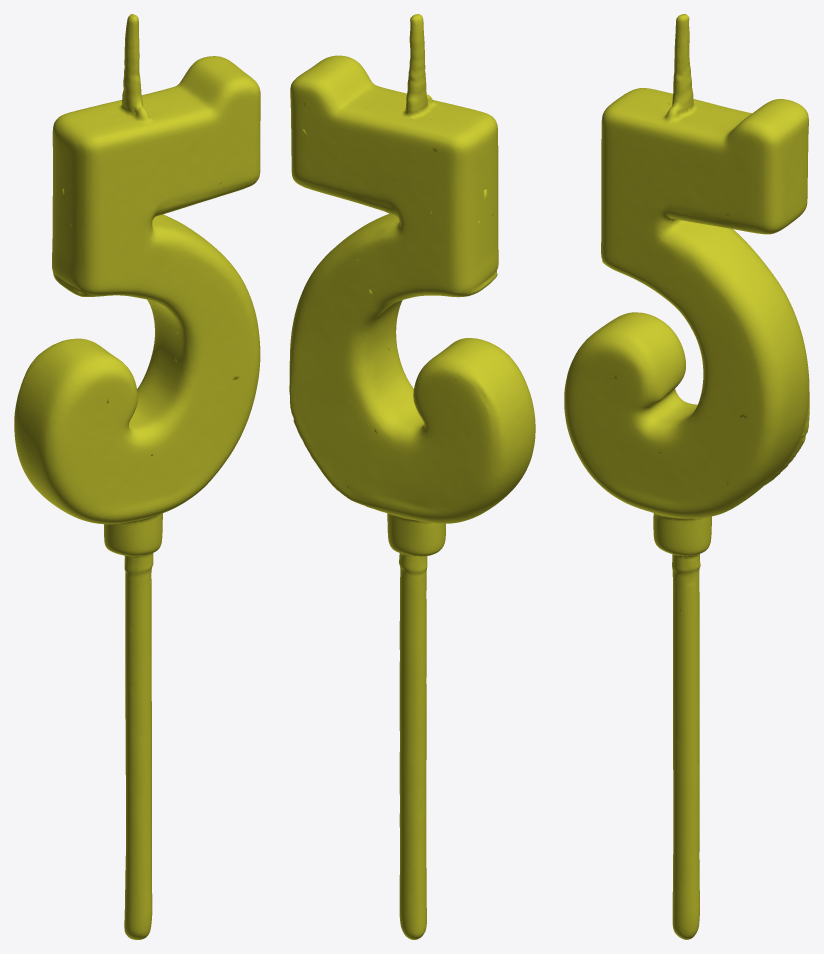
Rendered from number5.glb.
3 renders of one model, left to right at view 1: azimuth 30°, elevation 25°; view 2: azimuth 150°, elevation 25°; view 3: azimuth 330°, elevation 25°, orthographic.
Parts seen in each view (by area): view 1: Mesh1.001; view 2: Mesh1.001; view 3: Mesh1.001.
Part boxes in pixels (<box>): Mesh1.001: <box>14,14,260,939</box>; Mesh1.001: <box>289,14,535,939</box>; Mesh1.001: <box>564,14,809,939</box>.
Bounding box in the file's own units: 0.3328 × 1.33 × 0.1135.
